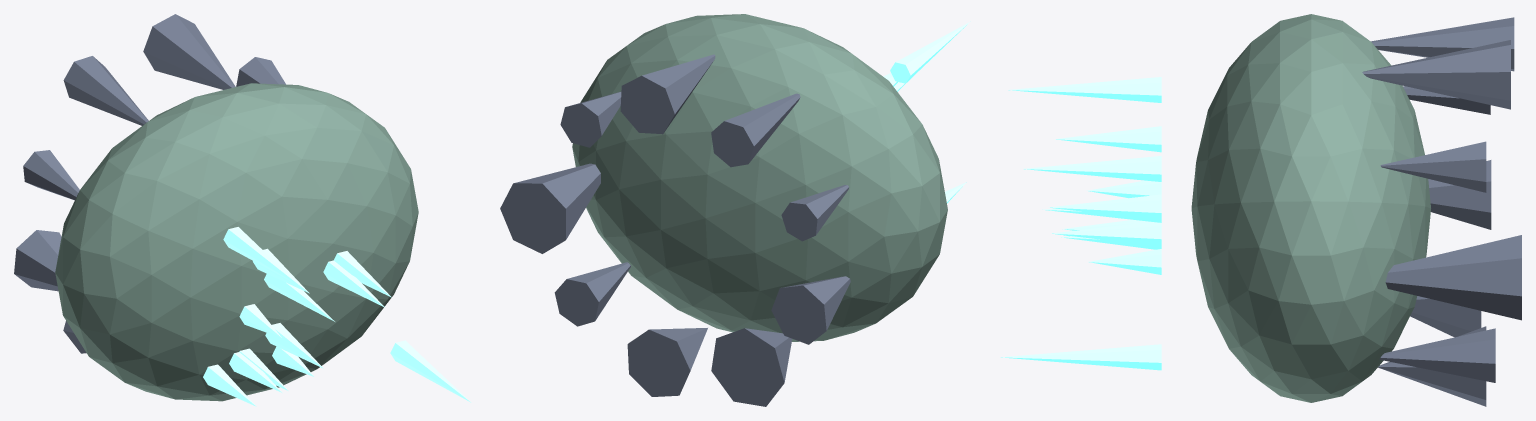
Rendered from 12_Parlayan_Island_Core.glb.
The picture shows the model from 3 angles, left to right: view 1: azimuth 30°, elevation 25°; view 2: azimuth 150°, elevation 25°; view 3: azimuth 270°, elevation 25°; orthographic projection. The views are drawn at different scales.
Visible parts, largest first — view 1: 12_Parlayan_Island_Core_00, 12_Parlayan_Island_Core_03, 12_Parlayan_Island_Core_04, 12_Parlayan_Island_Core_06, 12_Parlayan_Island_Core_05, 12_Parlayan_Island_Core_12, 12_Parlayan_Island_Core_11, 12_Parlayan_Island_Core_02, 12_Parlayan_Island_Core_21, 12_Parlayan_Island_Core_10, 12_Parlayan_Island_Core_16, 12_Parlayan_Island_Core_17 (+5 smaller); view 2: 12_Parlayan_Island_Core_00, 12_Parlayan_Island_Core_01, 12_Parlayan_Island_Core_07, 12_Parlayan_Island_Core_03, 12_Parlayan_Island_Core_08, 12_Parlayan_Island_Core_06, 12_Parlayan_Island_Core_04, 12_Parlayan_Island_Core_09, 12_Parlayan_Island_Core_02, 12_Parlayan_Island_Core_05, 12_Parlayan_Island_Core_11; view 3: 12_Parlayan_Island_Core_00, 12_Parlayan_Island_Core_01, 12_Parlayan_Island_Core_03, 12_Parlayan_Island_Core_09, 12_Parlayan_Island_Core_04, 12_Parlayan_Island_Core_02, 12_Parlayan_Island_Core_06, 12_Parlayan_Island_Core_12, 12_Parlayan_Island_Core_11, 12_Parlayan_Island_Core_08, 12_Parlayan_Island_Core_10, 12_Parlayan_Island_Core_07 (+6 smaller).
Boxes of the visible parts, x1,y1,x2,y2 form: 12_Parlayan_Island_Core_00: (55,83,418,401); 12_Parlayan_Island_Core_03: (143,14,235,89); 12_Parlayan_Island_Core_04: (63,56,148,125); 12_Parlayan_Island_Core_06: (14,230,61,291); 12_Parlayan_Island_Core_05: (23,150,79,200); 12_Parlayan_Island_Core_12: (390,340,471,402); 12_Parlayan_Island_Core_11: (223,227,300,286); 12_Parlayan_Island_Core_02: (236,57,285,86); 12_Parlayan_Island_Core_21: (323,260,385,307); 12_Parlayan_Island_Core_10: (264,274,334,321); 12_Parlayan_Island_Core_16: (203,364,256,406); 12_Parlayan_Island_Core_17: (265,323,323,368); 12_Parlayan_Island_Core_00: (572,14,947,341); 12_Parlayan_Island_Core_01: (500,163,600,253); 12_Parlayan_Island_Core_07: (711,328,792,406); 12_Parlayan_Island_Core_03: (620,54,715,134); 12_Parlayan_Island_Core_08: (627,328,707,396); 12_Parlayan_Island_Core_06: (771,276,850,344); 12_Parlayan_Island_Core_04: (711,93,800,167); 12_Parlayan_Island_Core_09: (554,262,630,326); 12_Parlayan_Island_Core_02: (560,91,621,147); 12_Parlayan_Island_Core_05: (781,185,848,241); 12_Parlayan_Island_Core_11: (890,21,970,83); 12_Parlayan_Island_Core_00: (1191,14,1430,402); 12_Parlayan_Island_Core_01: (1385,235,1521,320); 12_Parlayan_Island_Core_03: (1362,40,1510,109); 12_Parlayan_Island_Core_09: (1379,328,1495,382); 12_Parlayan_Island_Core_04: (1371,17,1514,71); 12_Parlayan_Island_Core_02: (1380,141,1486,192); 12_Parlayan_Island_Core_06: (1428,160,1491,229); 12_Parlayan_Island_Core_12: (1001,344,1161,370); 12_Parlayan_Island_Core_11: (1008,77,1161,102); 12_Parlayan_Island_Core_08: (1378,326,1486,406); 12_Parlayan_Island_Core_10: (1023,156,1161,181); 12_Parlayan_Island_Core_07: (1410,296,1481,337).
Size of the model in its own units: 7.6 by 6.66 by 8.72.
